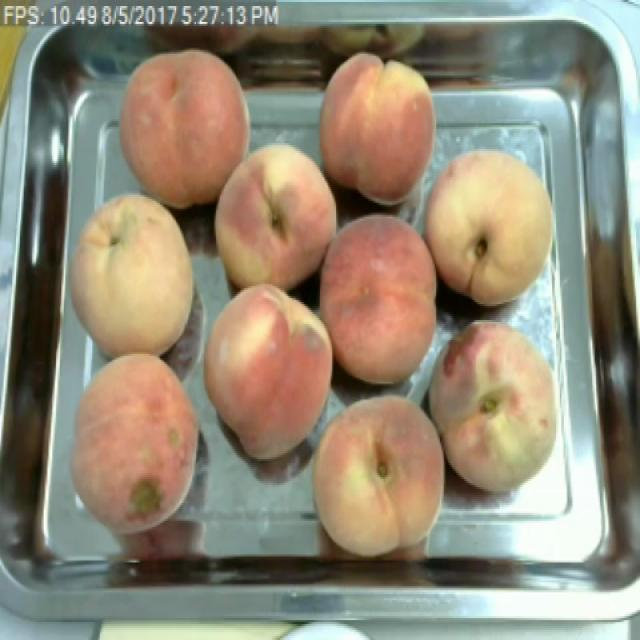Fruit: (56, 344, 208, 544), (419, 308, 572, 501), (196, 274, 344, 467), (56, 181, 205, 368), (300, 386, 455, 560), (109, 38, 260, 216), (412, 139, 565, 314), (315, 204, 449, 393), (203, 131, 348, 302), (310, 36, 446, 212)
